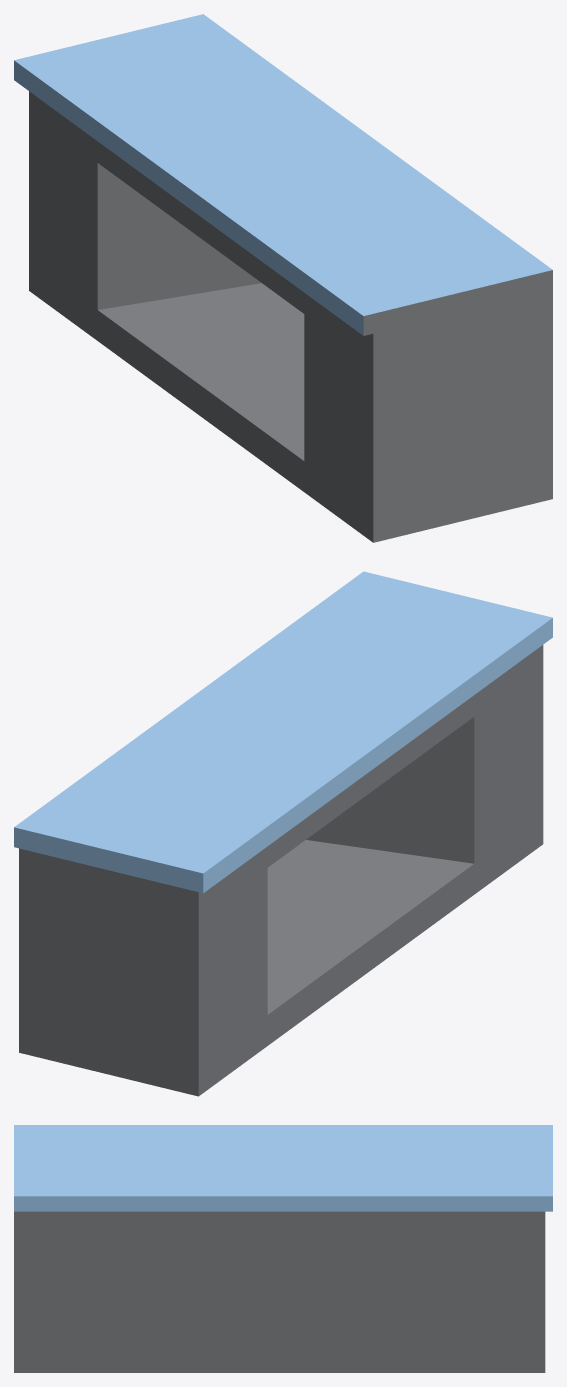
Rendered from venster.fbx.
3 views of the same model, one above another, from view 1: azimuth 30°, elevation 25°; view 2: azimuth 150°, elevation 25°; view 3: azimuth 270°, elevation 25° (orthographic). The views are drawn at different scales.
Visible parts, largest first — view 1: venster; view 2: venster; view 3: venster.
Boxes of the visible parts, box(x1,y1,x2,y2) form: venster: box(14, 14, 552, 542); venster: box(14, 571, 552, 1096); venster: box(14, 1125, 552, 1372).
Size of the model in its own units: 6394 by 7391 by 20443.
